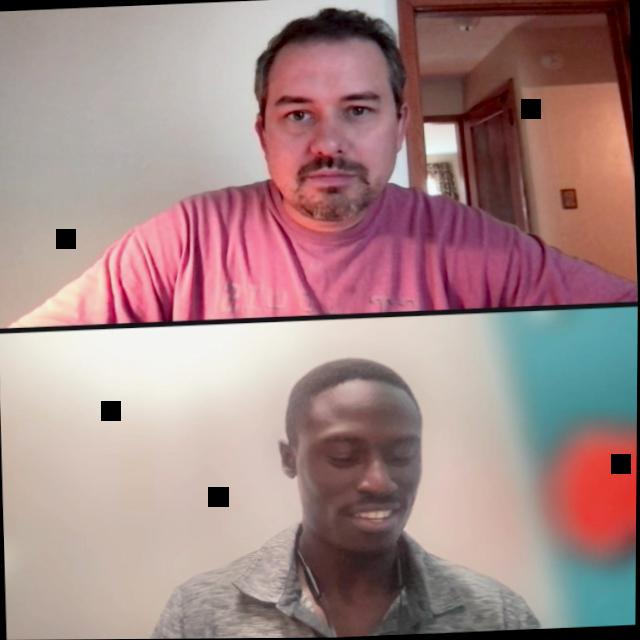NO-Mask: (251, 18, 412, 226), (274, 369, 430, 558)
